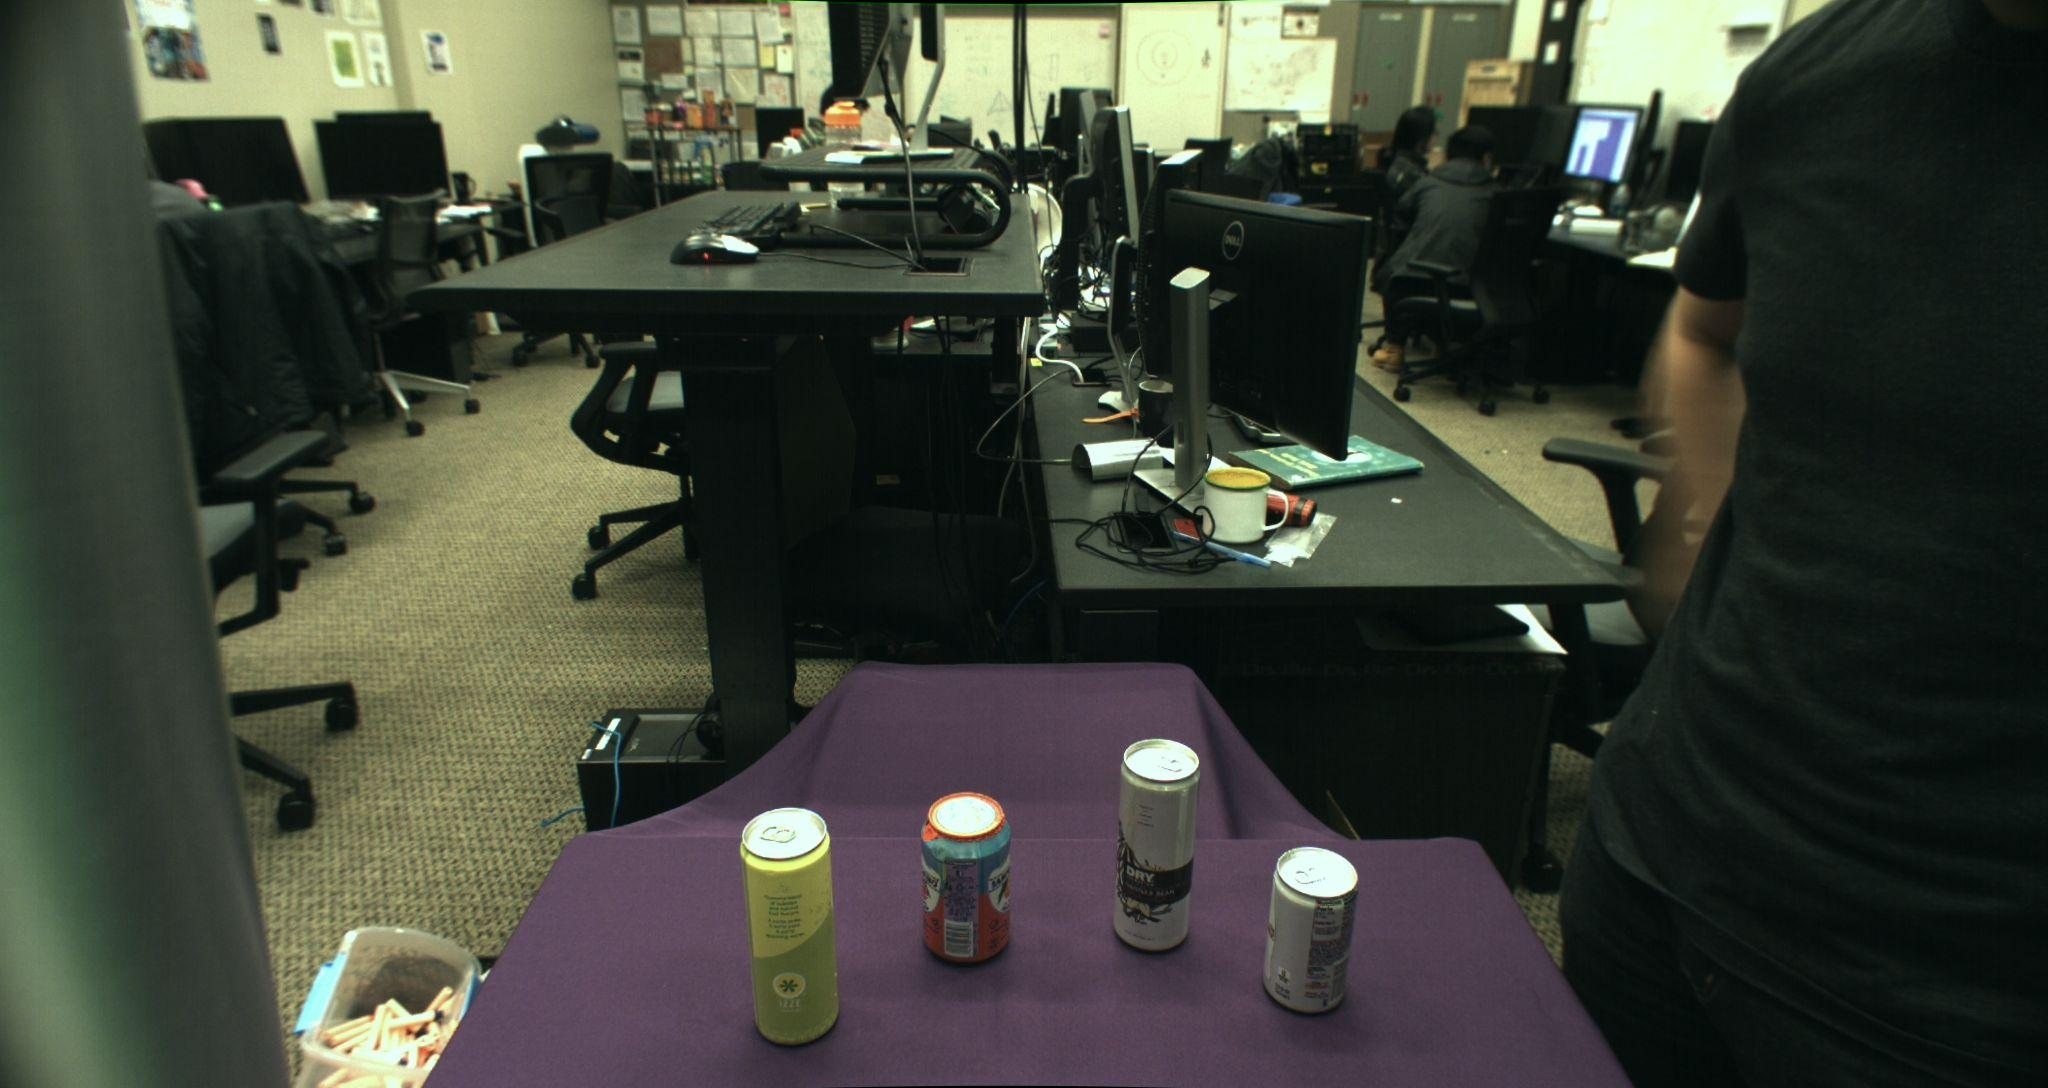can_diet_coke_small: (1261, 845, 1359, 1013)
can_dry_sparkling_vanilla_bean: (1113, 738, 1200, 951)
can_izze_fusions_lemon_lime: (738, 806, 841, 1047)
can_sanpellegrino_blood_orange: (920, 791, 1013, 963)
